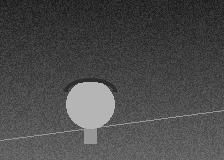no_helmet: (66, 78, 114, 133)
